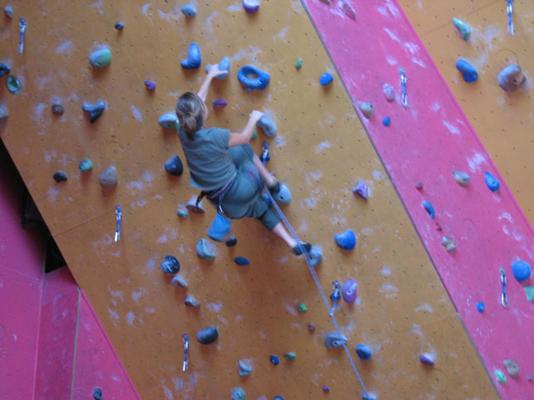person: (177, 63, 313, 258)
